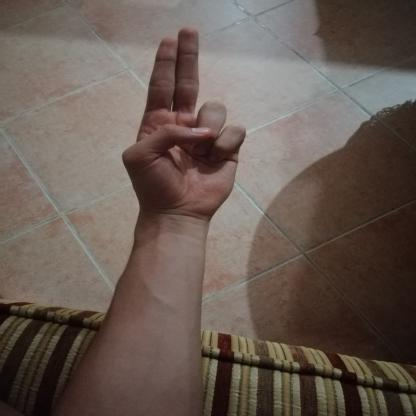TA: (110, 16, 258, 221)
